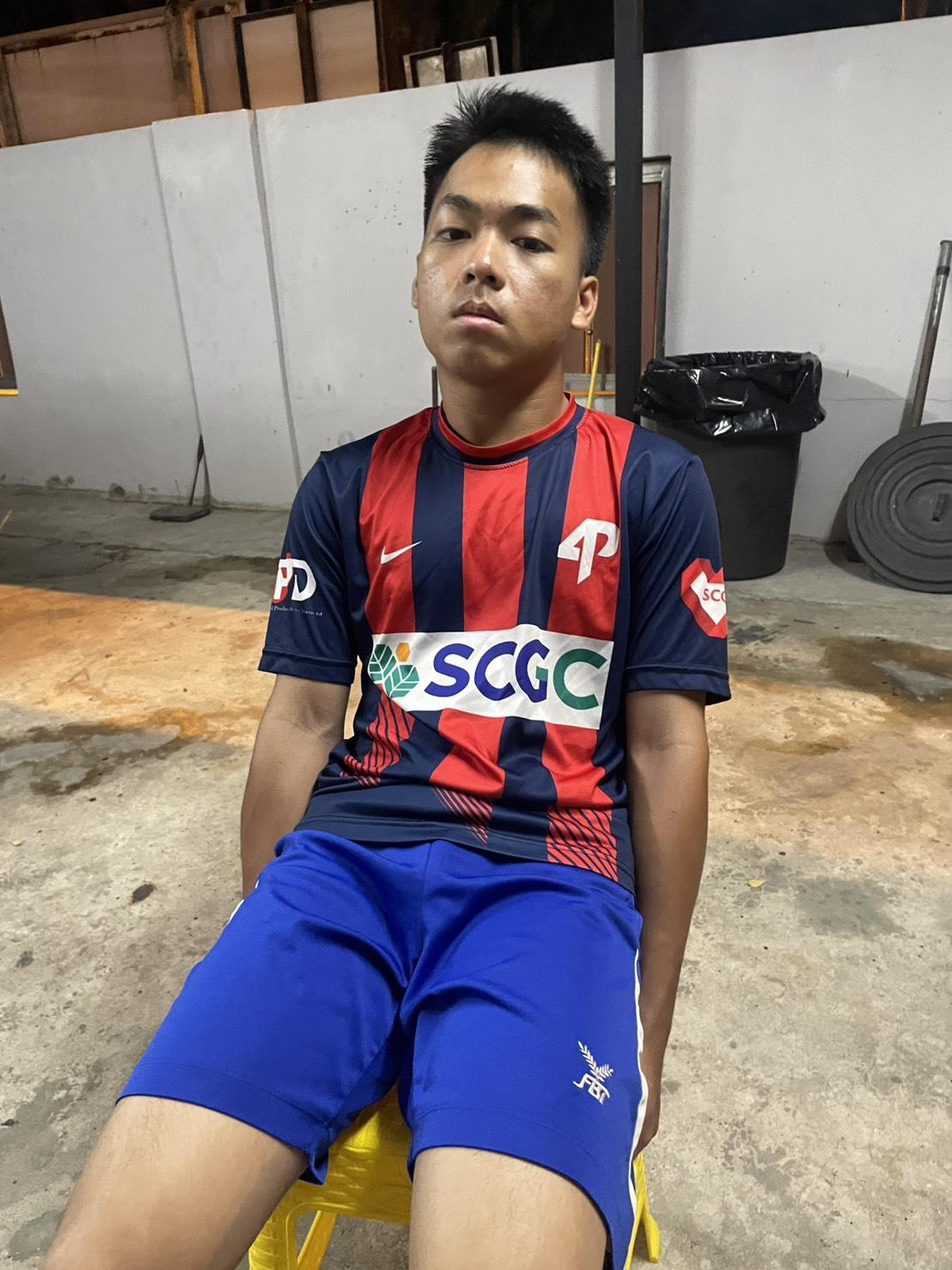BadPosture: (241, 88, 729, 950), (240, 83, 729, 877)
